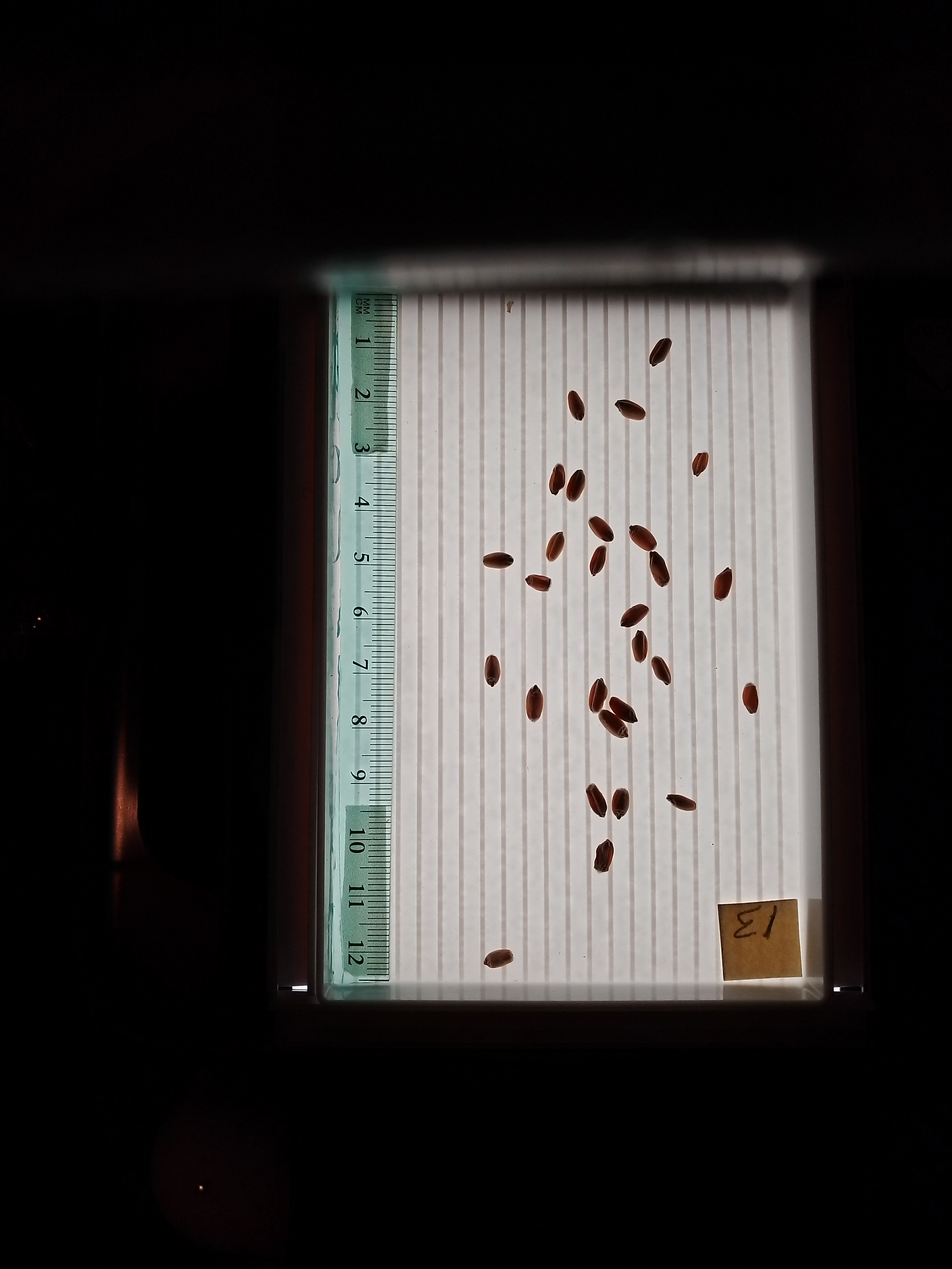seed mask: (599, 709, 628, 739), (609, 697, 638, 724), (630, 525, 656, 551), (649, 553, 669, 586), (621, 604, 648, 628), (566, 470, 586, 502), (587, 785, 607, 817), (526, 686, 544, 721), (649, 338, 671, 366), (589, 679, 607, 712), (617, 399, 645, 420), (484, 949, 513, 969), (714, 569, 733, 599), (595, 841, 613, 872), (589, 517, 613, 540), (612, 789, 630, 819), (652, 656, 671, 684), (567, 391, 585, 420), (546, 532, 564, 561), (668, 794, 697, 812), (632, 632, 648, 662), (484, 656, 500, 686), (590, 547, 607, 575), (484, 553, 513, 569), (550, 465, 565, 495), (743, 684, 758, 713), (692, 452, 709, 476), (527, 575, 550, 591)
